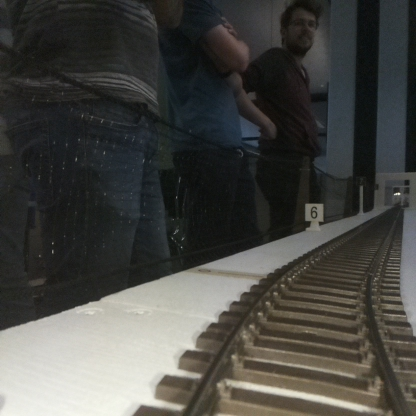white-stop-6: (305, 203, 323, 232)
